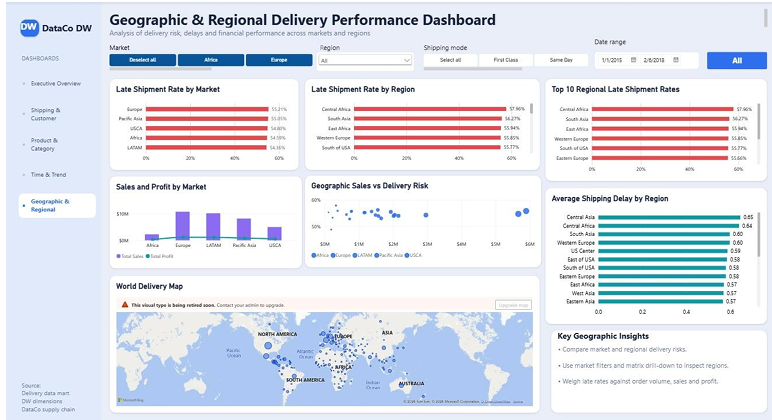

The dashboard page shown, as its layout file describes it:
{"tool":"powerbi","page":{"name":"Geographic & Regional","canvas":[1920,1080],"ordinal":4},"visuals":[{"type":"textbox","box":[0,0,240,1080],"z":0},{"type":"textbox","box":[38,44,48,45],"z":1000},{"type":"textbox","box":[92,48,136,42],"z":2000},{"type":"textbox","box":[42,130,180,30],"z":3000},{"type":"textbox","box":[42,944,174,95],"z":4000},{"type":"textbox","box":[260,18,1640,46],"z":5000},{"type":"textbox","box":[260,65,1640,25],"z":6000},{"type":"textbox","box":[260,1045,1640,24],"z":7000},{"type":"barChart","title":"Late Shipment Rate by Market","fields":{"Category":["DW DimLocation.Market"],"Y":["DM FactDeliveryPerformance.Late Shipment Rate"]},"box":[260.6,191.8,472.3,228],"z":13000},{"type":"barChart","title":"Late Shipment Rate by Region","fields":{"Category":["DW DimLocation.Order_Region"],"Y":["DM FactDeliveryPerformance.Late Shipment Rate"]},"box":[747.4,191.8,586.3,228],"z":14000},{"type":"barChart","title":"Top 10 Regional Late Shipment Rates","fields":{"Category":["DW DimLocation.Order_Region"],"Y":["DM FactDeliveryPerformance.Late Shipment Rate"]},"box":[1346.4,191.8,553.8,255.2],"z":15000},{"type":"lineClusteredColumnComboChart","title":"Sales and Profit by Market","fields":{"Category":["DW DimLocation.Market"],"Y":["DM FactDeliveryPerformance.Total Sales"],"Y2":["DM FactDeliveryPerformance.Total Profit"]},"box":[260.6,434.3,480,230],"z":16000},{"type":"scatterChart","title":"Geographic Sales vs Delivery Risk","fields":{"Category":["DW DimLocation.Order_Region"],"Series":["DW DimLocation.Market"],"Size":["DM FactDeliveryPerformance.Total Order Items"],"X":["DM FactDeliveryPerformance.Total Sales"],"Y":["DM FactDeliveryPerformance.Late Shipment Rate"]},"box":[747.4,432.5,589.9,229.8],"z":17000},{"type":"barChart","title":"Average Shipping Delay by Region","fields":{"Category":["DW DimLocation.Order_Region"],"Y":["DM FactDeliveryPerformance.Average Shipping Delay"]},"box":[1346.4,463.3,553.8,340.2],"z":18000},{"type":"map","title":"World Delivery Map","fields":{"Category":["DW DimLocation.Order_Country"],"Size":["DM FactDeliveryPerformance.Total Order Items"]},"box":[260.6,682.2,1073.1,342],"z":19000},{"type":"textbox","box":[1360.9,818,539.3,206.3],"z":20000},{"type":"textbox","box":[1379,854.2,503.1,157.4],"z":21000},{"type":"textbox","box":[34,478,192,61],"z":22000},{"type":"textbox","box":[65,191,165,48],"z":23000},{"type":"textbox","box":[65,258,165,48],"z":24000},{"type":"textbox","box":[65,334,165,48],"z":25000},{"type":"textbox","box":[65,419,165,48],"z":26000},{"type":"textbox","box":[65,486,165,48],"z":27000},{"type":"textbox","box":[44,192,22,28],"z":28000},{"type":"textbox","box":[44,496,22,28],"z":29000},{"type":"textbox","box":[44,268,22,28],"z":30000},{"type":"textbox","box":[44,344,22,28],"z":31000},{"type":"textbox","box":[44,420,22,28],"z":32000},{"type":"actionButton","box":[34,174,192,61],"z":33000},{"type":"actionButton","box":[34,250,192,61],"z":34000},{"type":"actionButton","box":[34,326,192,61],"z":35000},{"type":"actionButton","box":[34,402,192,61],"z":36000},{"type":"actionButton","box":[34,478,192,61],"z":37000},{"type":"textbox","box":[260.6,103.2,508.5,27.1],"z":38000},{"type":"textbox","box":[785.4,103.2,244.3,27.1],"z":39000},{"type":"textbox","box":[1469.4,88.7,260.6,29],"z":40000},{"type":"textbox","box":[1044.2,103.2,410.8,27.1],"z":41000},{"type":"advancedSlicerVisual","fields":{"Values":["DW DimShipping.Shipping_Mode"]},"box":[1044.2,130.3,410.8,43.4],"z":42000},{"type":"slicer","fields":{"Values":["DW DimDate.FullDate"]},"box":[1469.4,124.9,260.6,43.4],"z":43000},{"type":"advancedSlicerVisual","fields":{"Values":["DW DimLocation.Market"]},"box":[260.6,130.3,508.5,43.4],"z":44000},{"type":"slicer","fields":{"Values":["DW DimLocation.Order_Region"]},"box":[776.3,124.9,244.3,48.9],"z":45000},{"type":"actionButton","box":[1749.9,124.9,150.2,43.4],"z":46000}]}

Visuals, with their boxes on the page's 1920x1080 design canvas (x1, y1, x2, y2). These are canvas units, not pixel positions in the 772x420 screenshot, which may show the page scaled, cropped or inside an application window:
textbox: bbox(0, 0, 240, 1080)
textbox: bbox(38, 44, 86, 89)
textbox: bbox(92, 48, 228, 90)
textbox: bbox(42, 130, 222, 160)
textbox: bbox(42, 944, 216, 1039)
textbox: bbox(260, 18, 1900, 64)
textbox: bbox(260, 65, 1900, 90)
textbox: bbox(260, 1045, 1900, 1069)
"Late Shipment Rate by Market" barChart: bbox(261, 192, 733, 420)
"Late Shipment Rate by Region" barChart: bbox(747, 192, 1334, 420)
"Top 10 Regional Late Shipment Rates" barChart: bbox(1346, 192, 1900, 447)
"Sales and Profit by Market" lineClusteredColumnComboChart: bbox(261, 434, 741, 664)
"Geographic Sales vs Delivery Risk" scatterChart: bbox(747, 432, 1337, 662)
"Average Shipping Delay by Region" barChart: bbox(1346, 463, 1900, 804)
"World Delivery Map" map: bbox(261, 682, 1334, 1024)
textbox: bbox(1361, 818, 1900, 1024)
textbox: bbox(1379, 854, 1882, 1012)
textbox: bbox(34, 478, 226, 539)
textbox: bbox(65, 191, 230, 239)
textbox: bbox(65, 258, 230, 306)
textbox: bbox(65, 334, 230, 382)
textbox: bbox(65, 419, 230, 467)
textbox: bbox(65, 486, 230, 534)
textbox: bbox(44, 192, 66, 220)
textbox: bbox(44, 496, 66, 524)
textbox: bbox(44, 268, 66, 296)
textbox: bbox(44, 344, 66, 372)
textbox: bbox(44, 420, 66, 448)
actionButton: bbox(34, 174, 226, 235)
actionButton: bbox(34, 250, 226, 311)
actionButton: bbox(34, 326, 226, 387)
actionButton: bbox(34, 402, 226, 463)
actionButton: bbox(34, 478, 226, 539)
textbox: bbox(261, 103, 769, 130)
textbox: bbox(785, 103, 1030, 130)
textbox: bbox(1469, 89, 1730, 118)
textbox: bbox(1044, 103, 1455, 130)
advancedSlicerVisual - DW DimShipping.Shipping_Mode: bbox(1044, 130, 1455, 174)
slicer - DW DimDate.FullDate: bbox(1469, 125, 1730, 168)
advancedSlicerVisual - DW DimLocation.Market: bbox(261, 130, 769, 174)
slicer - DW DimLocation.Order_Region: bbox(776, 125, 1021, 174)
actionButton: bbox(1750, 125, 1900, 168)
